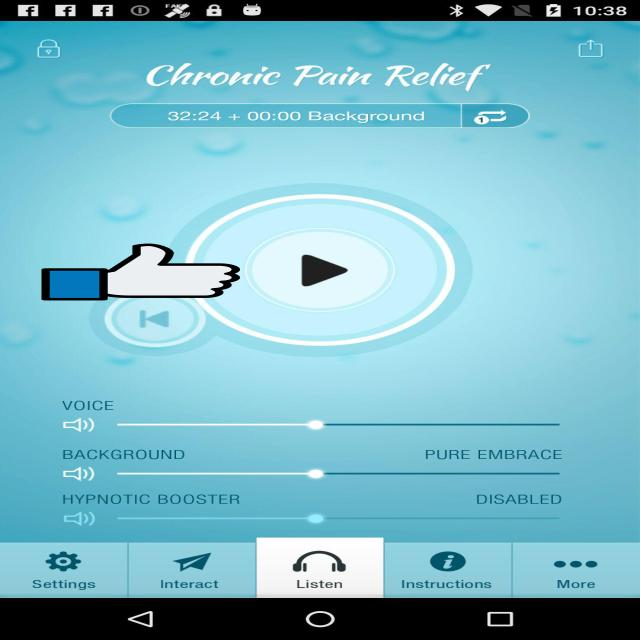privacy zuckering: (41, 242, 240, 302)
